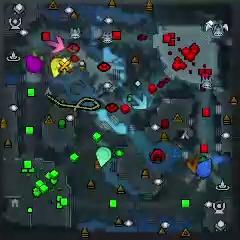p1: (198, 158, 212, 176)
p2: (96, 146, 111, 166)
p3: (25, 55, 43, 74)
p4: (50, 57, 65, 77)
x1: (47, 36, 65, 53)
x3: (132, 94, 148, 110)
x5: (186, 155, 200, 172)
